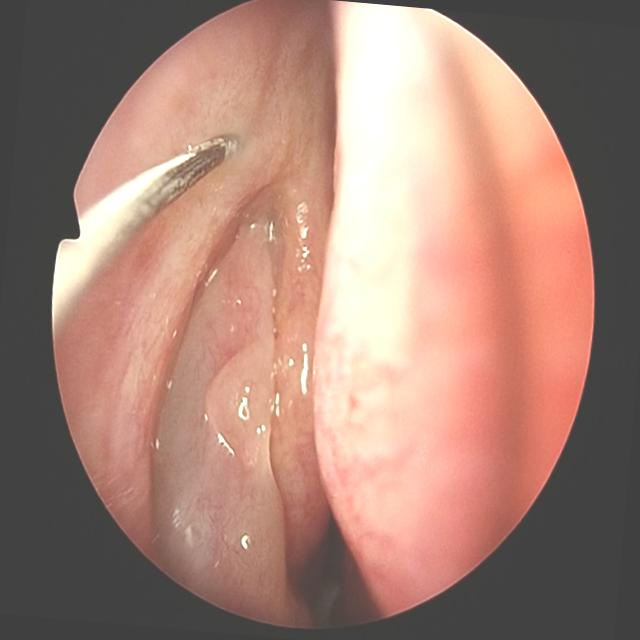OPENING: (298, 518, 351, 628)
POLYPS: (151, 196, 287, 616)
